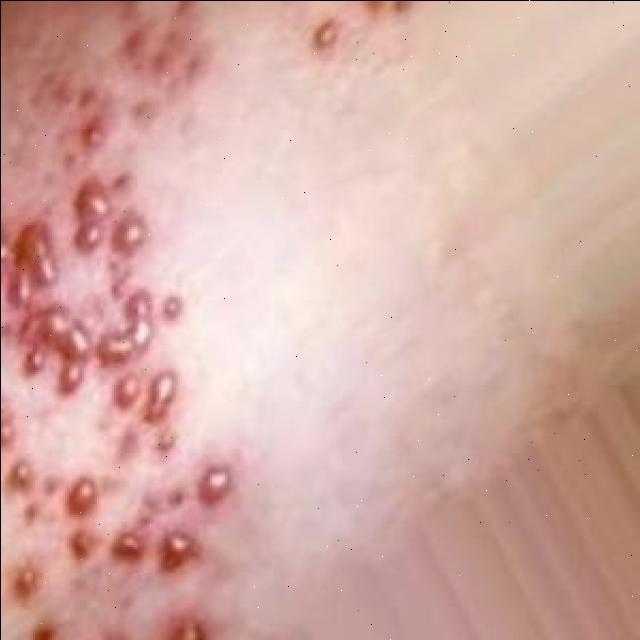Shingles: (0, 174, 236, 639)
